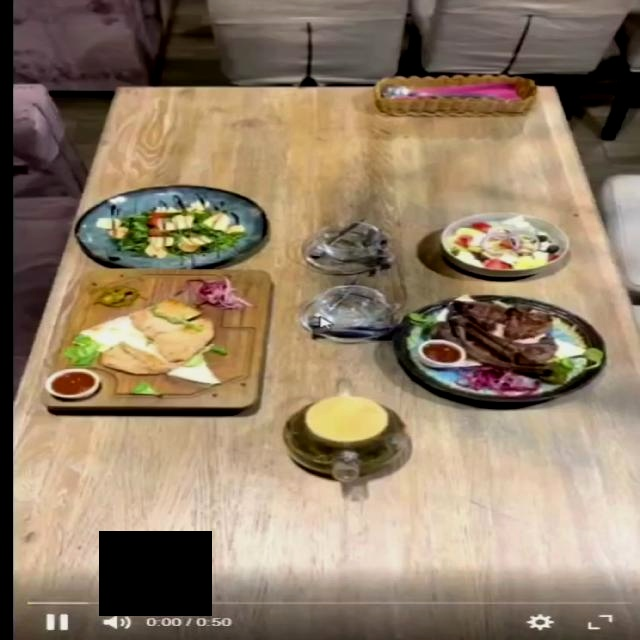meat: (41, 270, 269, 408), (390, 293, 606, 403)
salad: (72, 184, 266, 267), (437, 211, 571, 276)
tea: (282, 396, 407, 479)
